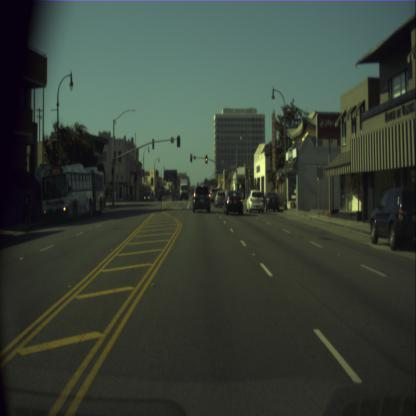Red: (190, 153, 192, 162)
Yellow: (205, 155, 207, 163)
